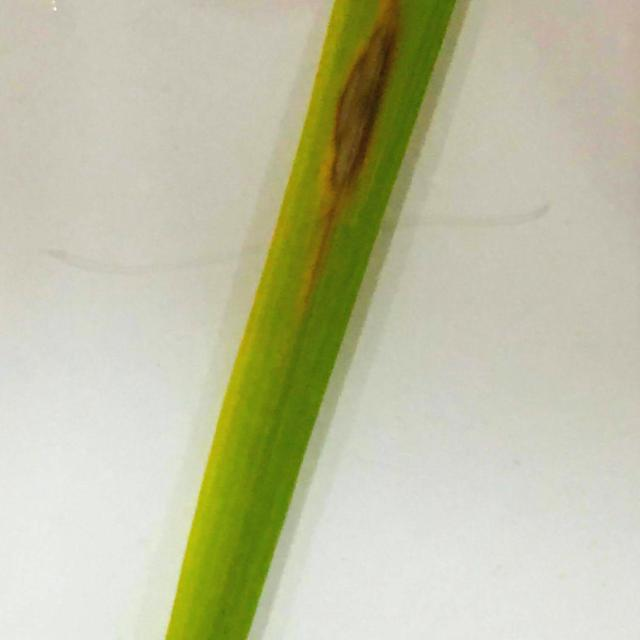Leaf_Blast: (326, 0, 406, 247)
